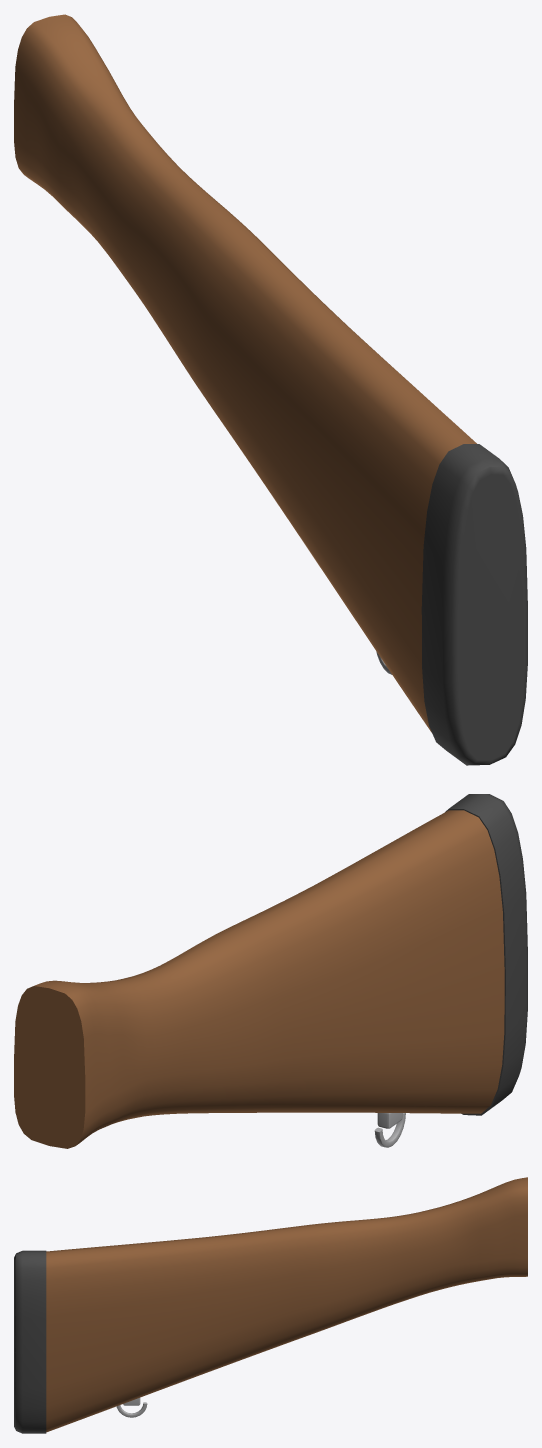
Rendered from stock_mp133.glb.
3 renders of one model, top to bottom at view 1: azimuth 30°, elevation 25°; view 2: azimuth 150°, elevation 25°; view 3: azimuth 270°, elevation 25°, orthographic. The views are drawn at different scales.
Visible parts, largest first — view 1: static_butt.001; view 2: static_butt.001; view 3: static_butt.001.
Boxes of the visible parts, box(x1,y1,x2,y2) form: static_butt.001: box(14, 14, 527, 765); static_butt.001: box(14, 794, 527, 1148); static_butt.001: box(14, 1177, 527, 1433).
Size of the model in its own units: 0.0393 by 0.1921 by 0.358.
